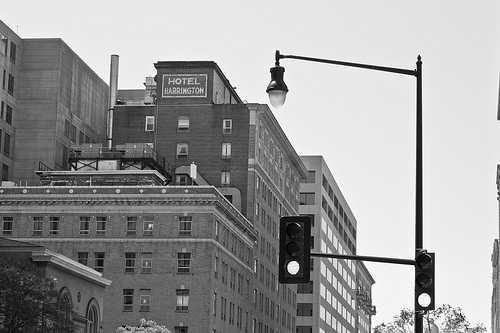2: (278, 214, 308, 282), (416, 250, 432, 310)
red traffic light: (281, 258, 305, 276), (416, 292, 431, 310)
